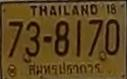0: (104, 18, 120, 54)
1: (76, 20, 80, 56)
3: (24, 20, 40, 56)
7: (88, 19, 103, 56), (8, 20, 22, 57)
8: (54, 20, 68, 55)
SPK: (26, 61, 103, 79)
